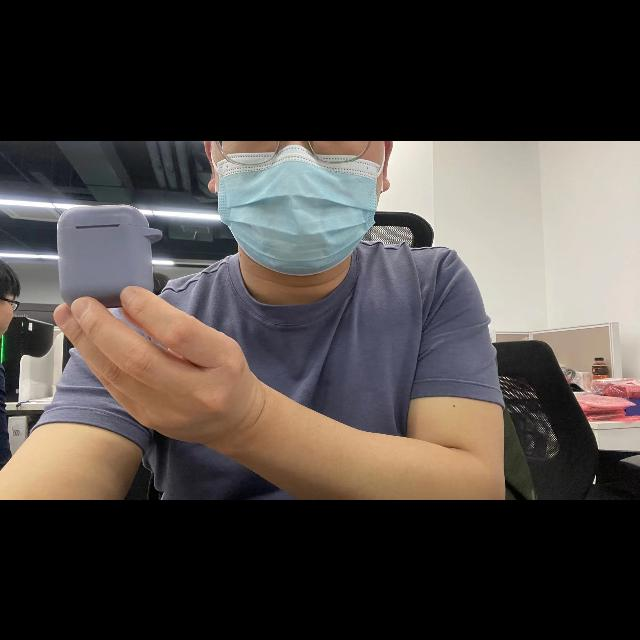airpods: (57, 204, 161, 307)
